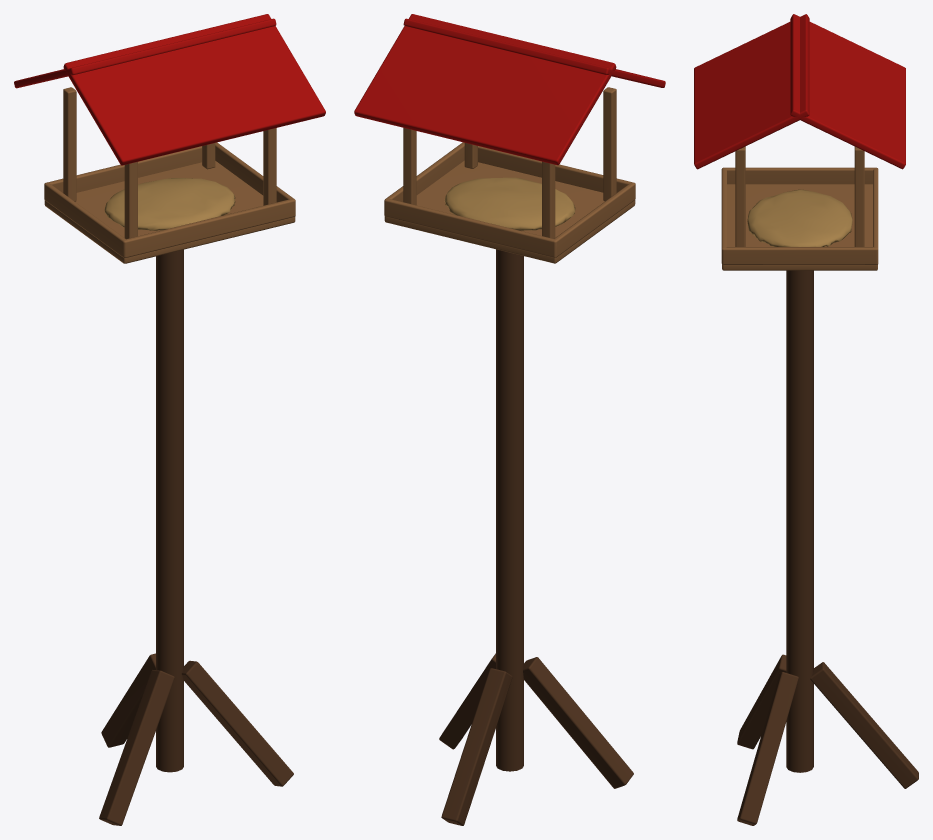
Rendered from bird_feeder.glb.
The picture shows the model from 3 angles, left to right: view 1: azimuth 30°, elevation 25°; view 2: azimuth 150°, elevation 25°; view 3: azimuth 270°, elevation 25°; orthographic projection. The views are drawn at different scales.
Visible parts, largest first — view 1: Body, Seed; view 2: Body, Seed; view 3: Body, Seed.
Boxes of the visible parts, x1,y1,x2,y2 form: Body: (14,14,325,825); Seed: (104,178,235,230); Body: (354,14,665,825); Seed: (444,177,575,230); Body: (694,14,918,825); Seed: (747,189,852,246).
Bounding box in the file's own units: 0.5 × 1.75 × 0.4903.
